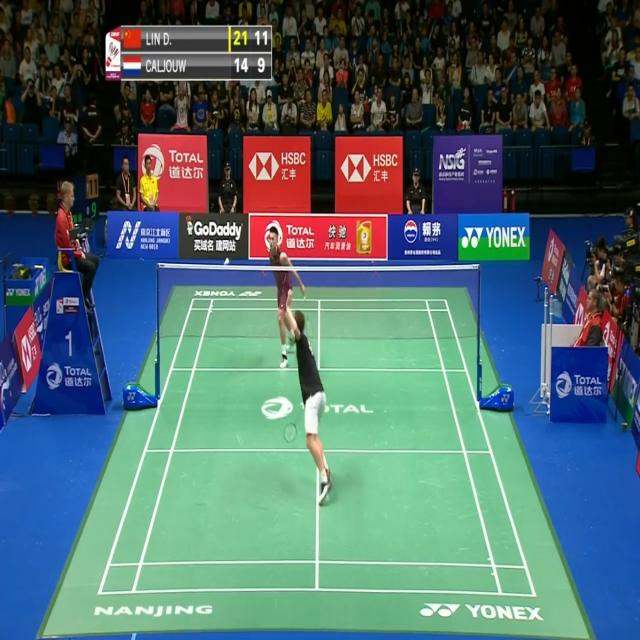Player1: (286, 301, 336, 512)
Player2: (264, 222, 310, 366)
